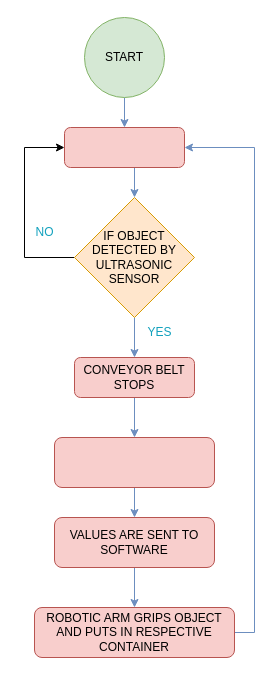
Image size: 280x675. Some labels were removed from this diagram. Each missing label, with the box of its shape:
CONVEYOR BELT RUNS: (64, 126, 184, 168)
IR SENSOR RECORDS VALUE OF IR REFLECTANCE: (54, 436, 214, 488)
